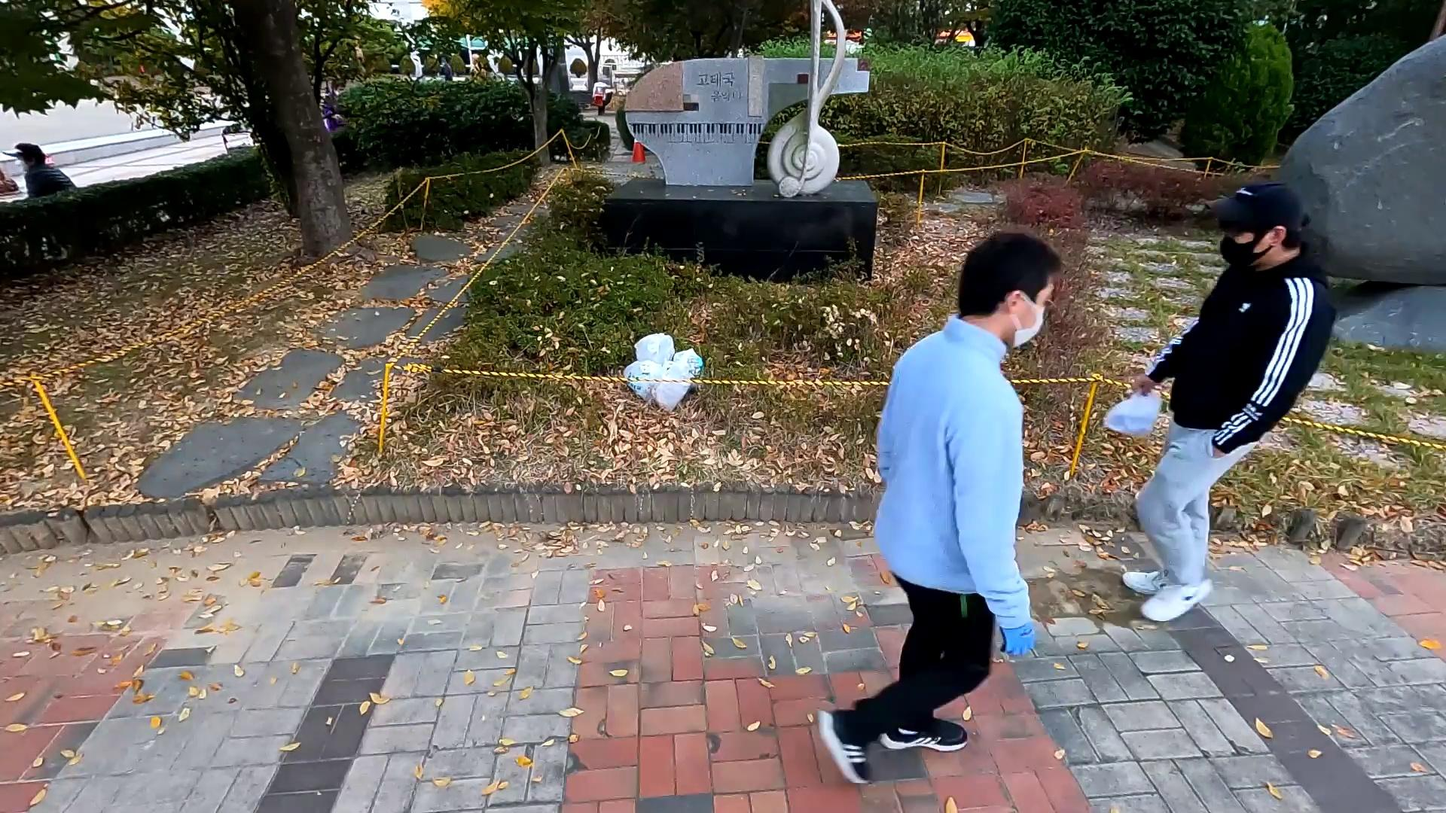person: (806, 232, 1066, 789), (1102, 180, 1339, 630)
trash: (1097, 391, 1170, 444), (628, 330, 680, 383), (642, 366, 692, 416), (617, 360, 673, 401), (669, 348, 704, 390)
